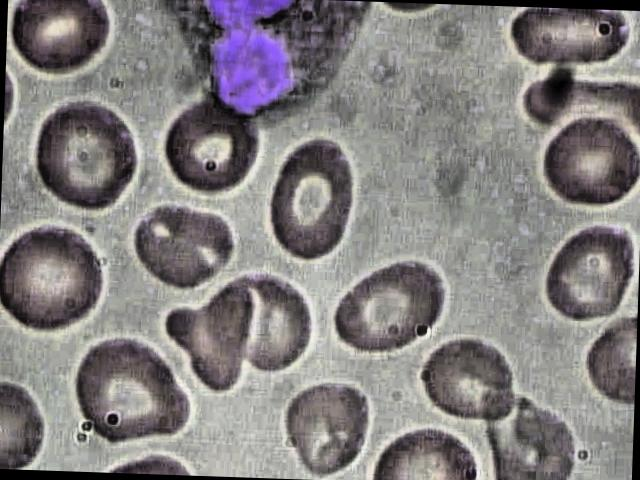RBC: (318, 250, 460, 362), (70, 332, 200, 446), (27, 96, 147, 214), (0, 223, 119, 335), (416, 314, 524, 430), (213, 261, 320, 377), (534, 209, 640, 326), (268, 135, 360, 267), (538, 103, 640, 219), (269, 375, 376, 479), (156, 98, 268, 195), (130, 197, 238, 294), (9, 0, 122, 86), (506, 8, 632, 70)
WBC: (146, 0, 377, 128)
